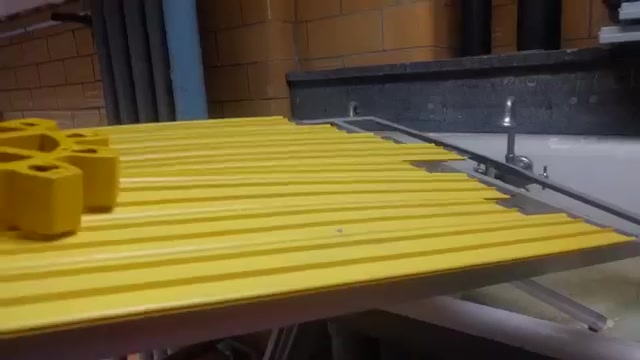gear: (4, 98, 117, 273)
